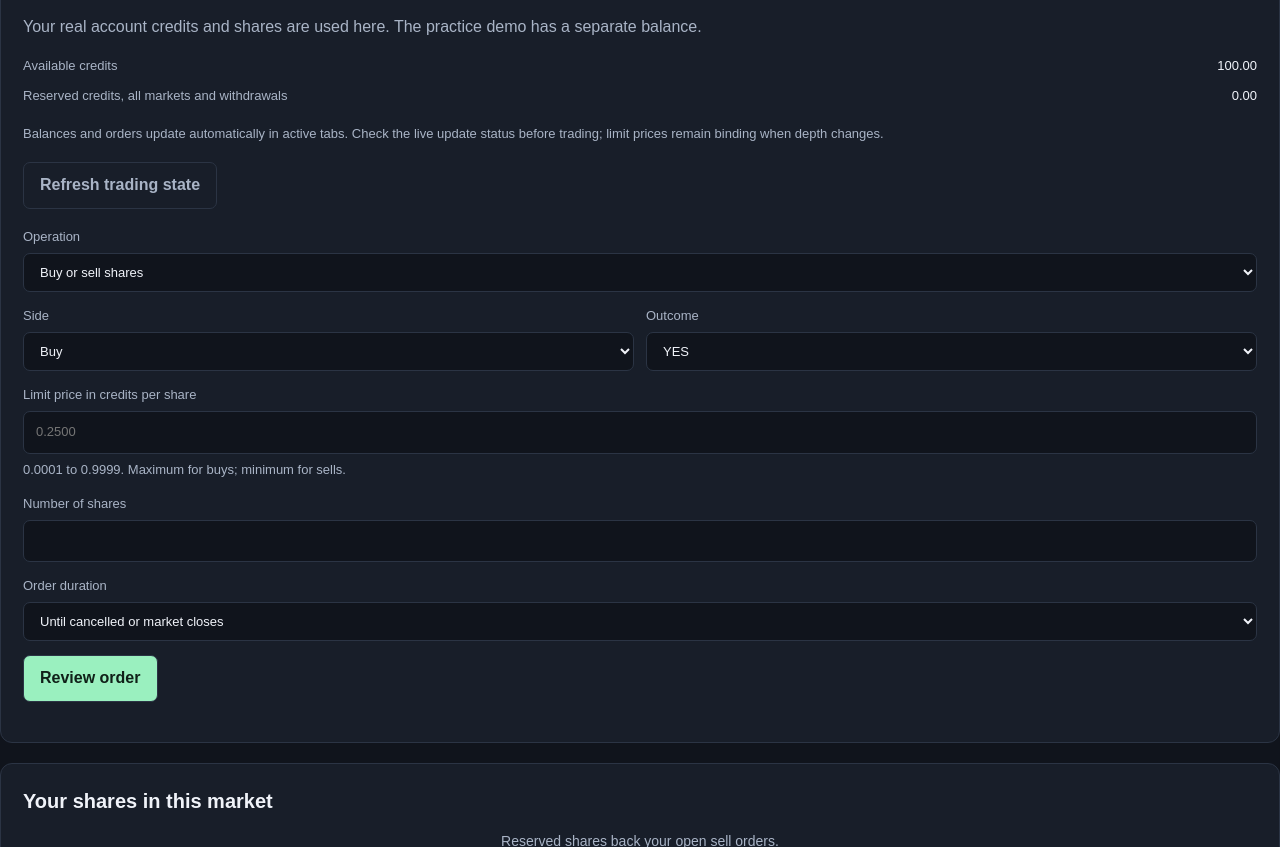
Test case: participant trading controls › preserves the exact pending request when an acknowledgement changes its quantity
The width and height of the screenshot is (1280, 847).
Type "0.2501" into the field at x=640, y=432, box top-left (23, 411), bottom-right (1257, 454)
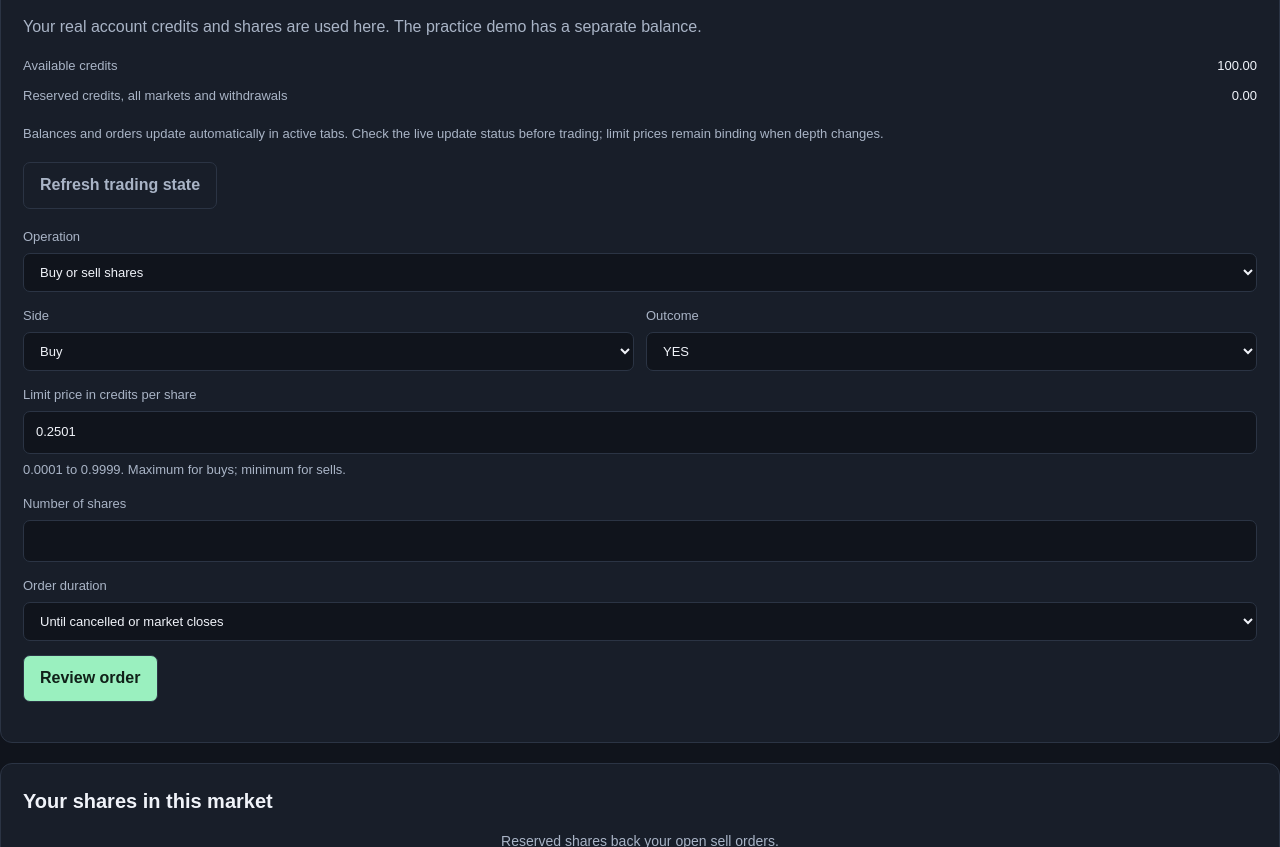
Type "3" into the number field labelled "Number of shares" at x=640, y=541, box top-left (23, 520), bottom-right (1257, 562)
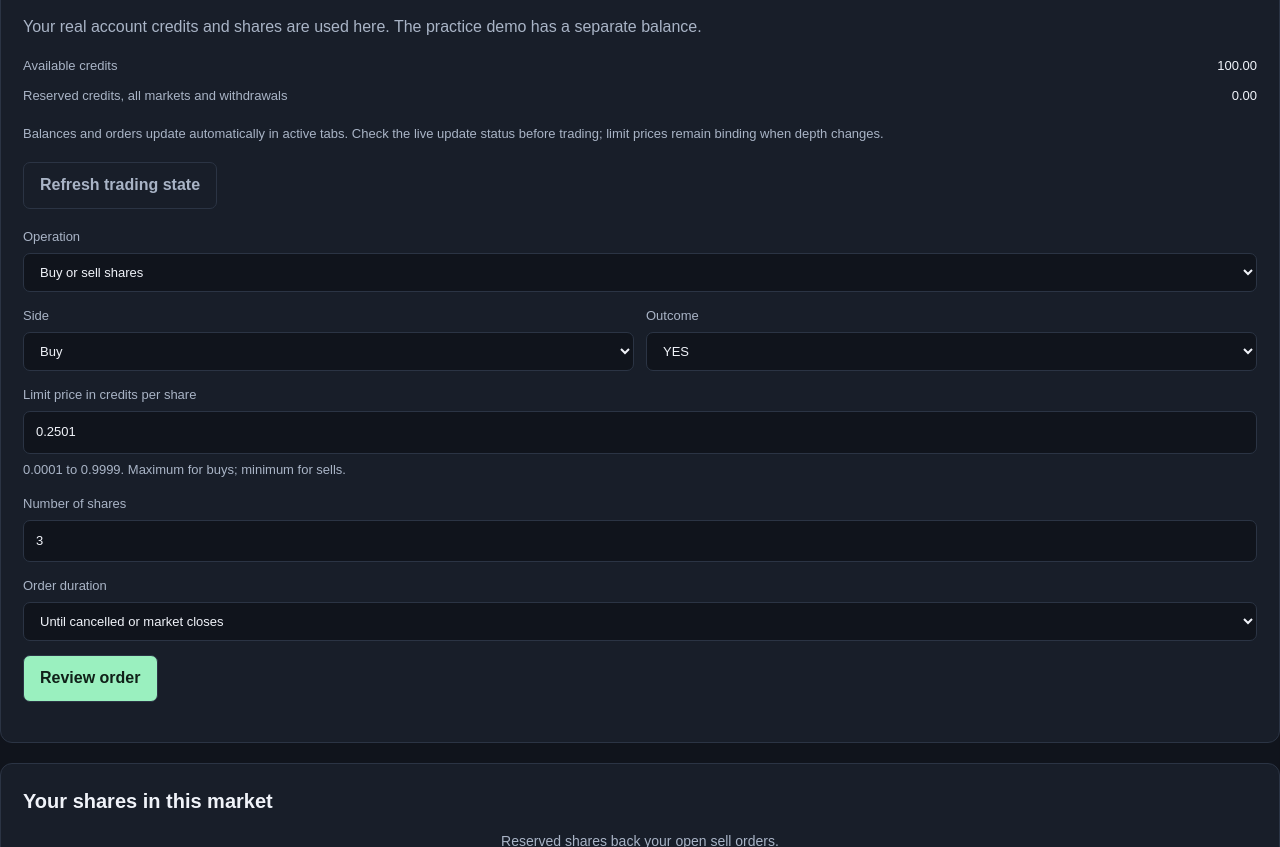
Click the button "Review order" at x=90, y=678, box top-left (23, 655), bottom-right (158, 702)
(page scrolled)
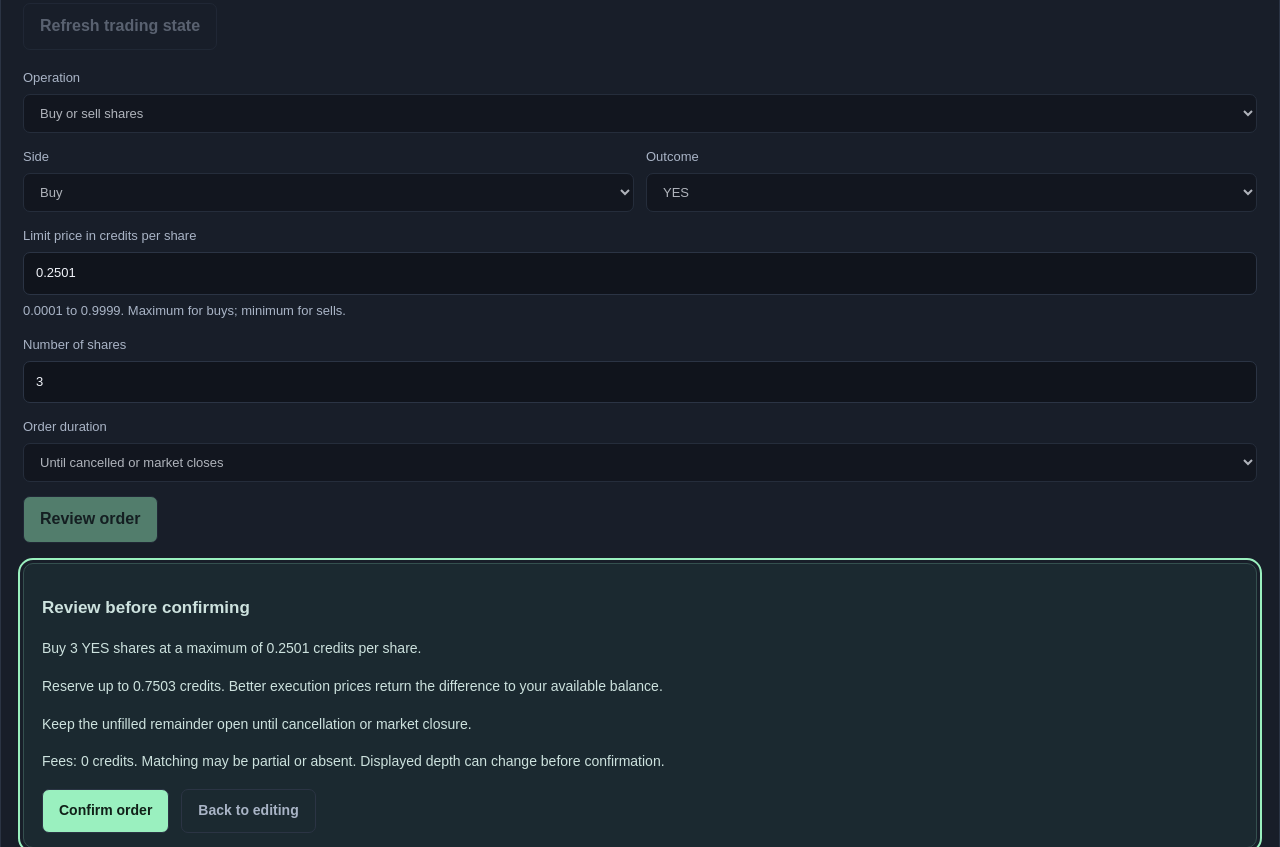
Click the button "Confirm order" at x=106, y=811, box top-left (42, 789), bottom-right (169, 833)
(page scrolled)
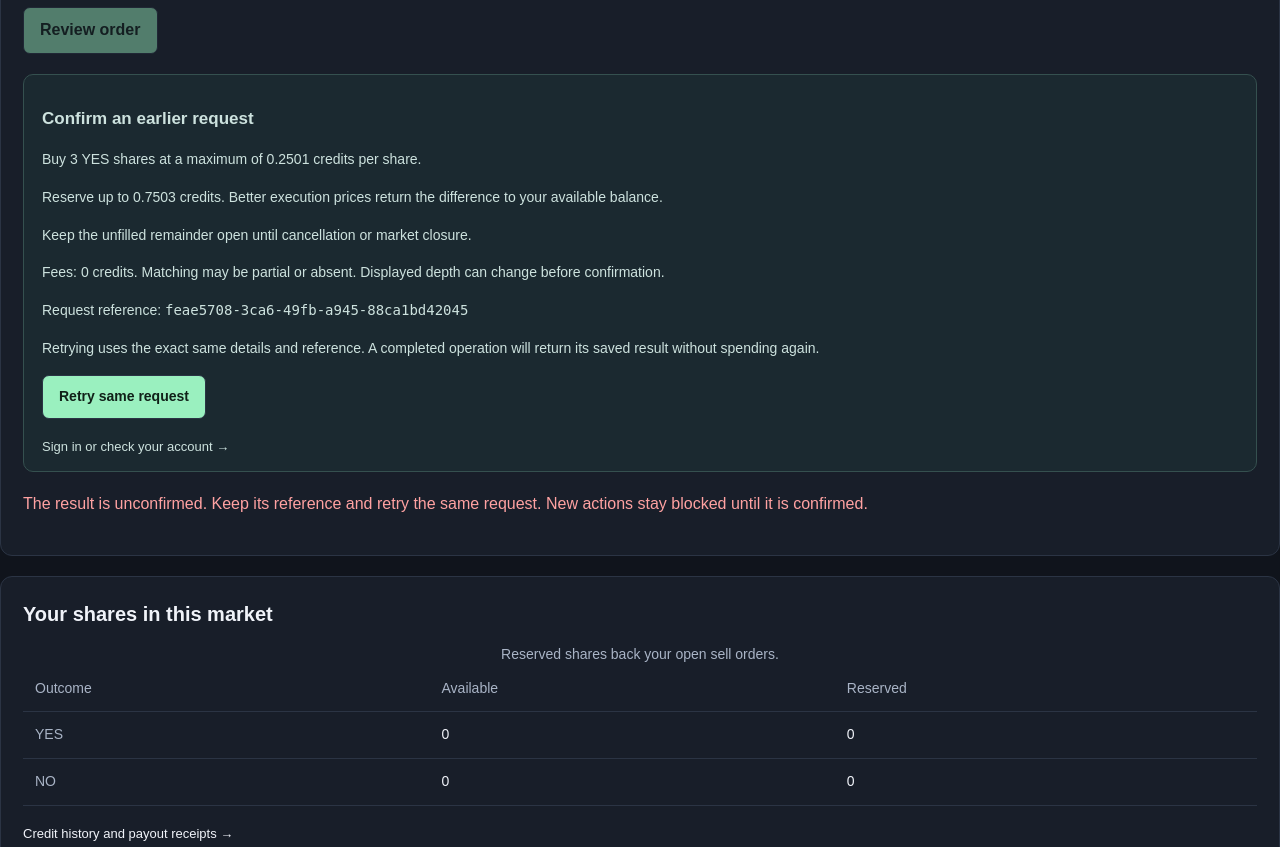
Check: the text "result is unconfirmed" is shown, box top-left (23, 495), bottom-right (868, 512)
Click the button "Retry same request" at x=124, y=397, box top-left (42, 375), bottom-right (206, 419)
(page scrolled)
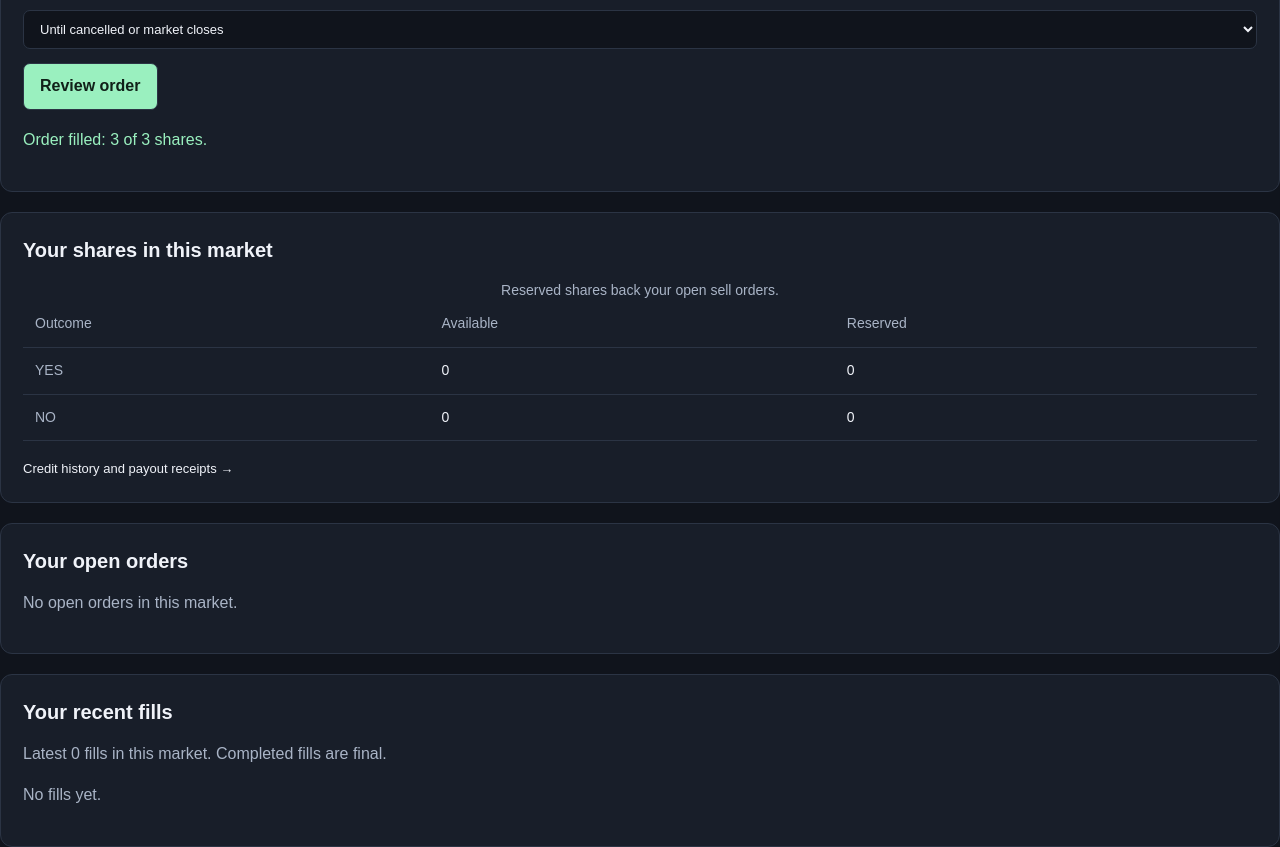
Check: the text "Order filled: 3 of 3 shares" is shown, box top-left (23, 131), bottom-right (207, 148)
